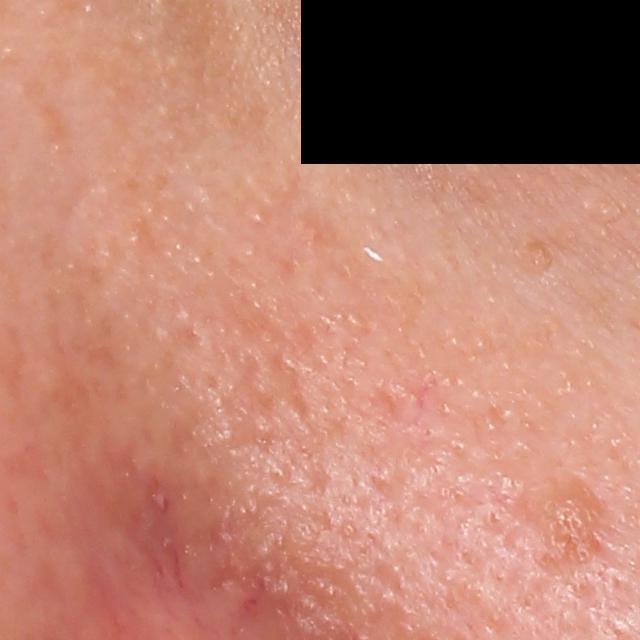other: (537, 475, 611, 579)
